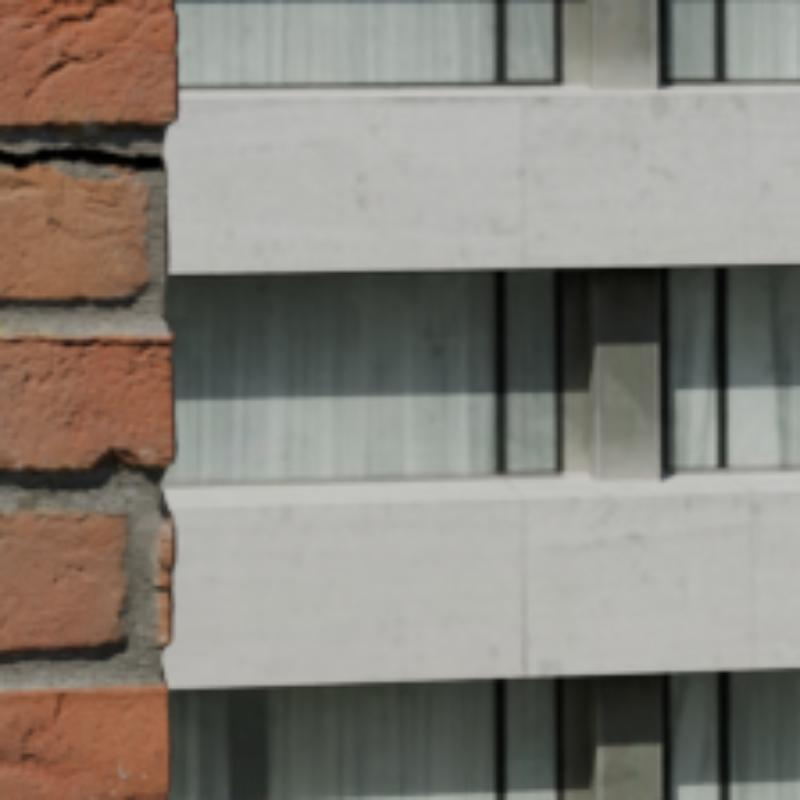pothole: (0, 146, 161, 168)
